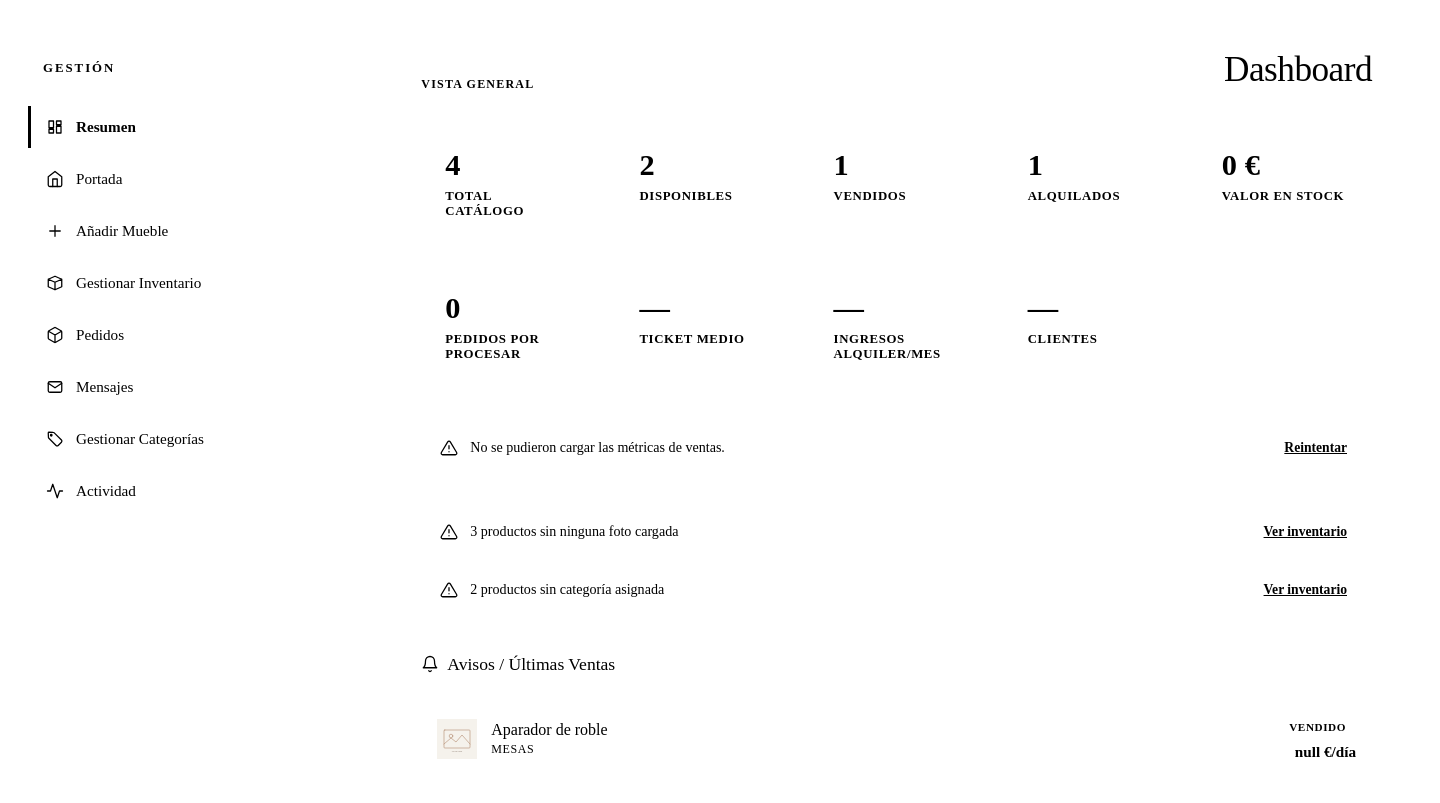
Test: Mensajes con piezas — tarjetas › sin referencias no hay tarjetas, y el mensaje funciona como antes
The width and height of the screenshot is (1440, 803).
Step 1. Click the button "Mensajes" → [105, 386], box [28,366,341,408]
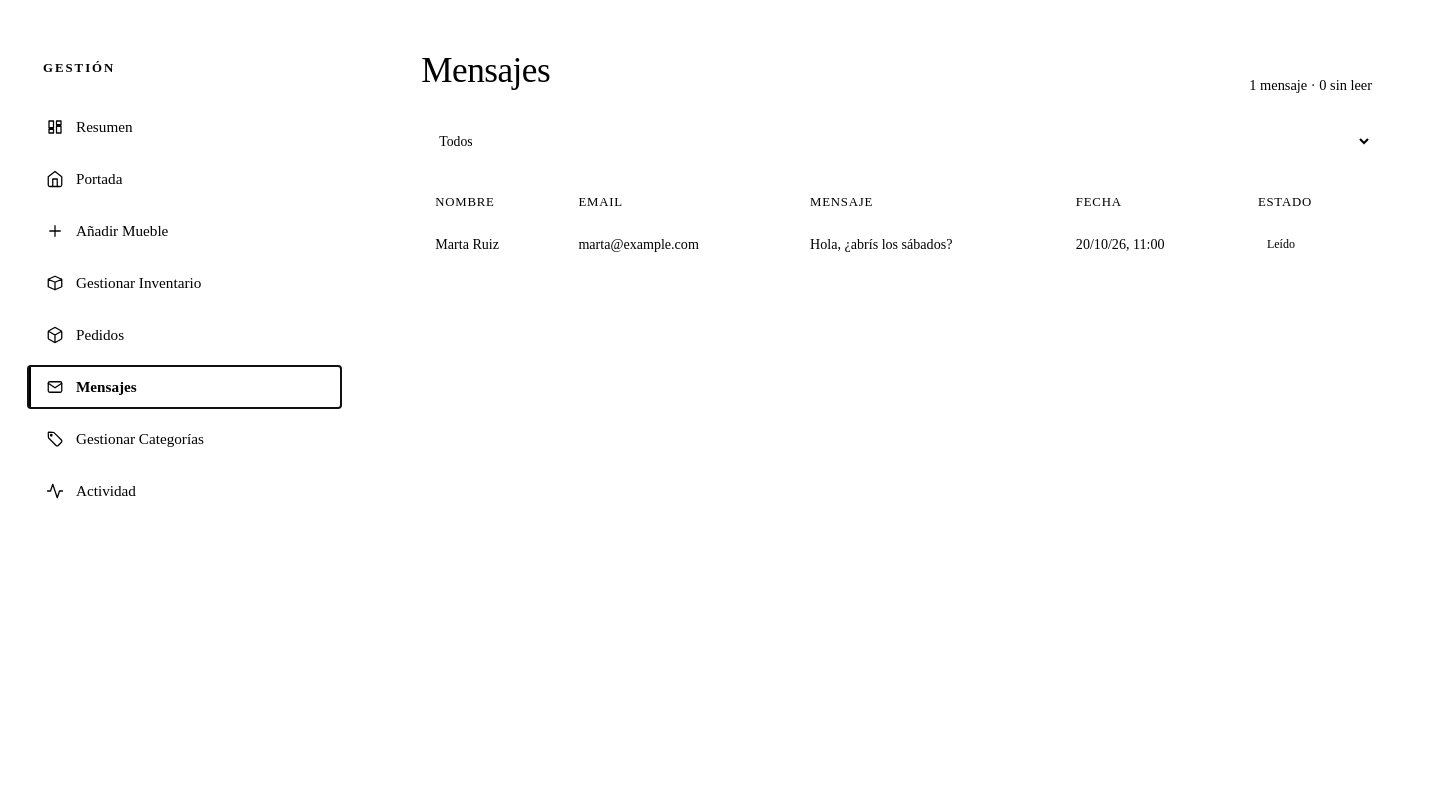
Step 2. Click the button "Marta Ruiz" → [467, 244], box [435,236,499,253]
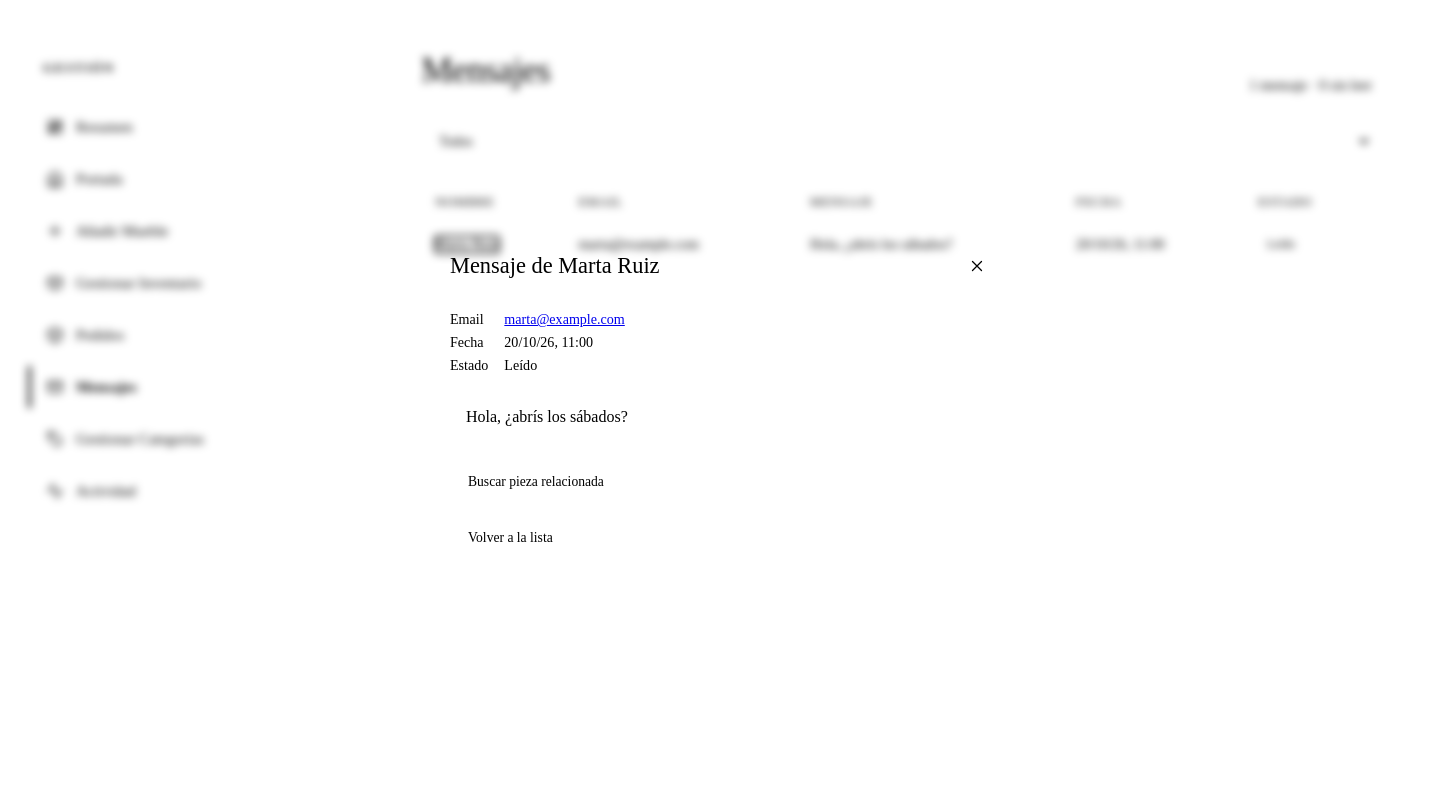
Expected: the text "Hola, ¿abrís los sábados?" is shown, [466,408,628,425]
Expected: the button "Volver a la lista" is shown, [450,520,571,557]
